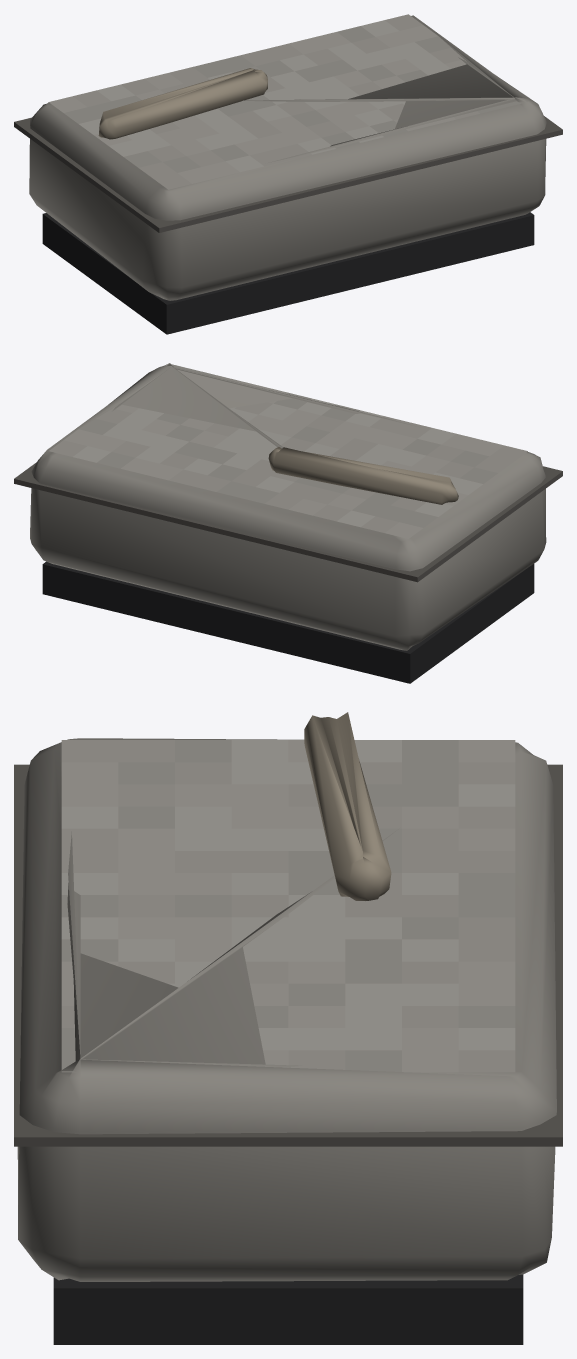
Rendered from chaise4.glb.
3 renders of one model, top to bottom at view 1: azimuth 30°, elevation 25°; view 2: azimuth 150°, elevation 25°; view 3: azimuth 270°, elevation 25°, orthographic. The views are drawn at different scales.
Parts seen in each view (by area): view 1: root; view 2: root; view 3: root.
Part boxes in pixels (x1,y1,x2,y2): root: [14, 14, 562, 334]; root: [14, 363, 562, 683]; root: [14, 712, 562, 1344].
Bounding box in the file's own units: 1.29 × 0.5029 × 0.8047.
